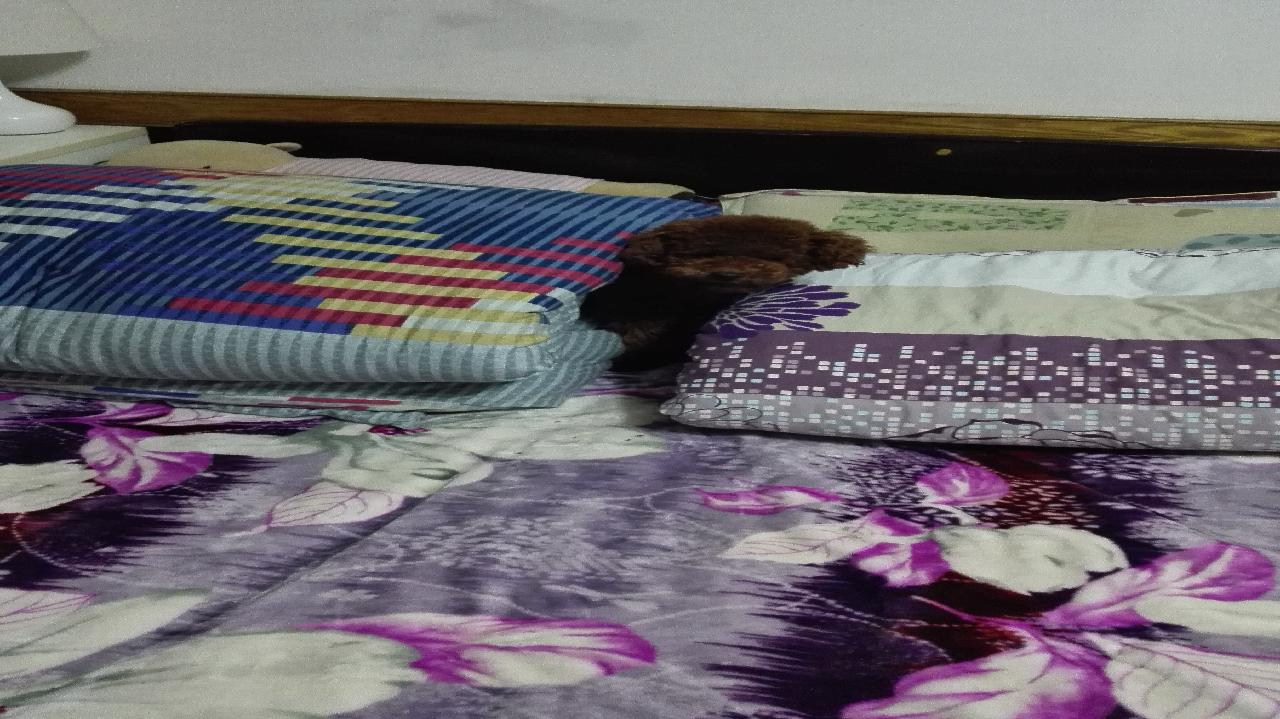zhuangzhuang: (597, 213, 843, 411)
